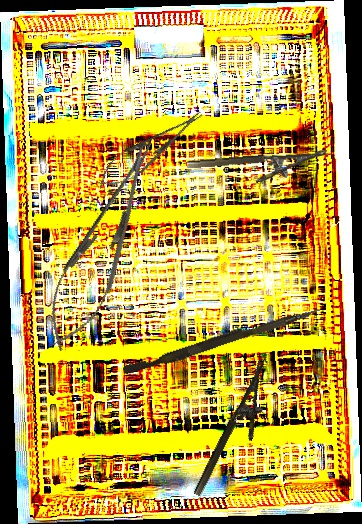Needle Holder: (31, 130, 174, 360), (191, 358, 287, 506), (90, 101, 211, 198), (186, 149, 330, 188)
Pusher: (122, 299, 322, 381)
